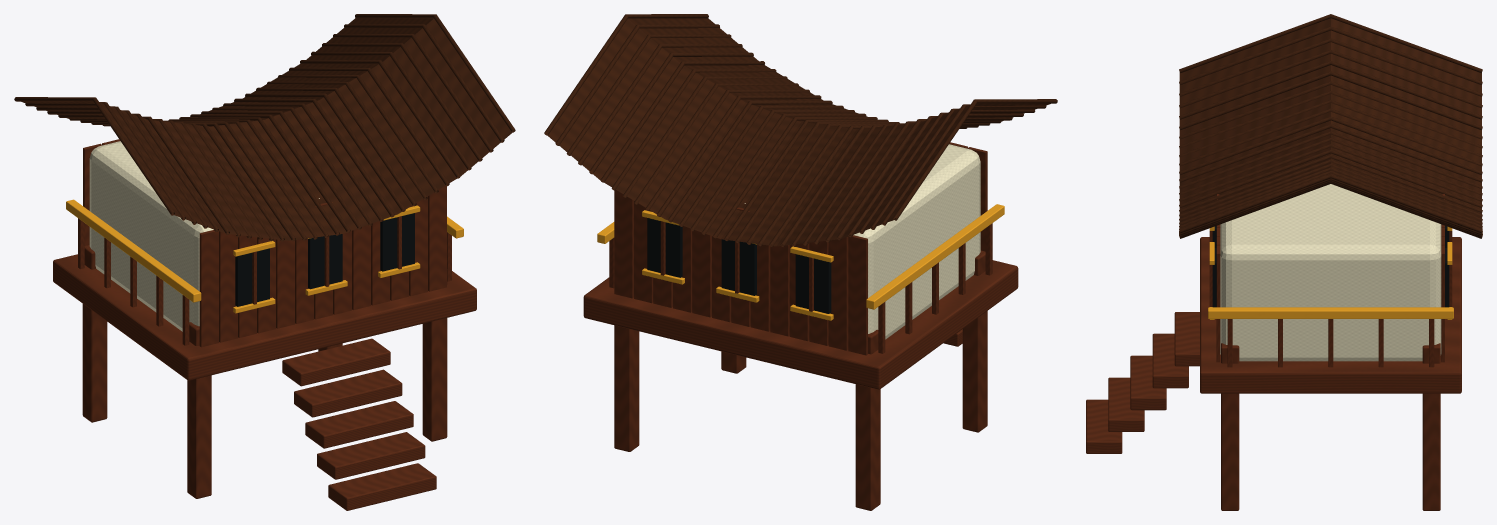
File: rumah-adat.glb
3 renders of one model, left to right at view 1: azimuth 30°, elevation 25°; view 2: azimuth 150°, elevation 25°; view 3: azimuth 270°, elevation 25°, orthographic. The views are drawn at different scales.
Parts seen in each view (by area): view 1: rumah-adat; view 2: rumah-adat; view 3: rumah-adat.
Part boxes in pixels (x1,y1,x2,y2): rumah-adat: [14, 14, 515, 510]; rumah-adat: [544, 14, 1057, 510]; rumah-adat: [1086, 14, 1482, 510].
Bounding box in the file's own units: 3.8 × 3.92 × 3.94.
Materials: 5 (5 with a texture image).
